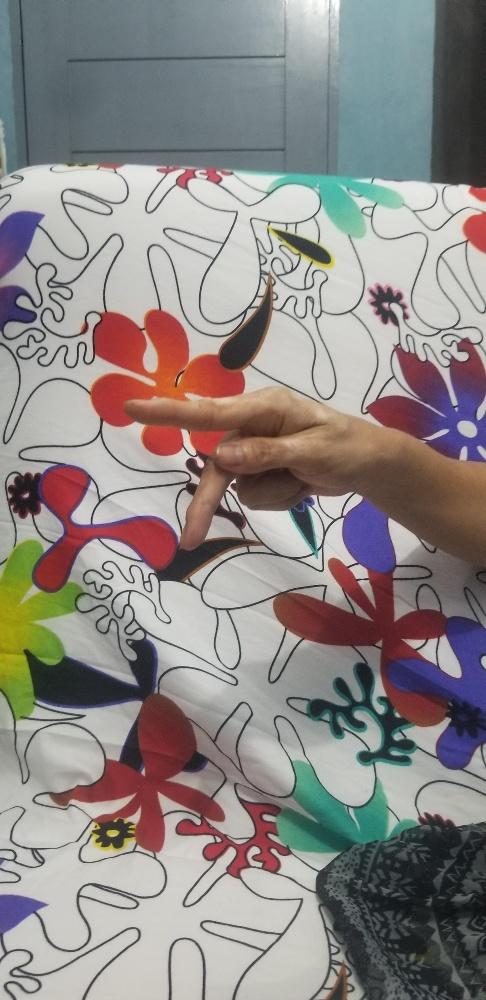p: (120, 380, 372, 552)
